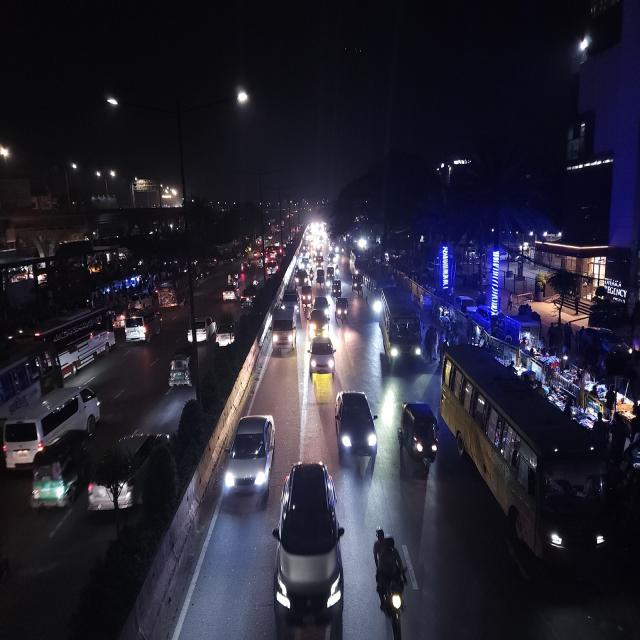bus: (437, 341, 619, 583), (10, 307, 116, 371), (0, 340, 58, 428), (376, 287, 424, 372), (363, 270, 391, 318), (157, 274, 189, 308)
car: (273, 455, 345, 639), (0, 381, 102, 468), (222, 408, 278, 506), (334, 385, 379, 468), (396, 396, 440, 476), (123, 307, 163, 347), (269, 307, 298, 357), (308, 334, 336, 379), (187, 312, 215, 346), (215, 314, 237, 354), (308, 309, 330, 338), (220, 280, 239, 304), (240, 283, 258, 308), (293, 266, 309, 289), (266, 261, 278, 276)
cng: (30, 433, 88, 513), (166, 343, 197, 395), (335, 294, 349, 327), (301, 284, 314, 308), (314, 268, 328, 290), (352, 274, 362, 294), (332, 277, 342, 296), (325, 264, 335, 278)
motorcycle: (370, 522, 410, 639)
